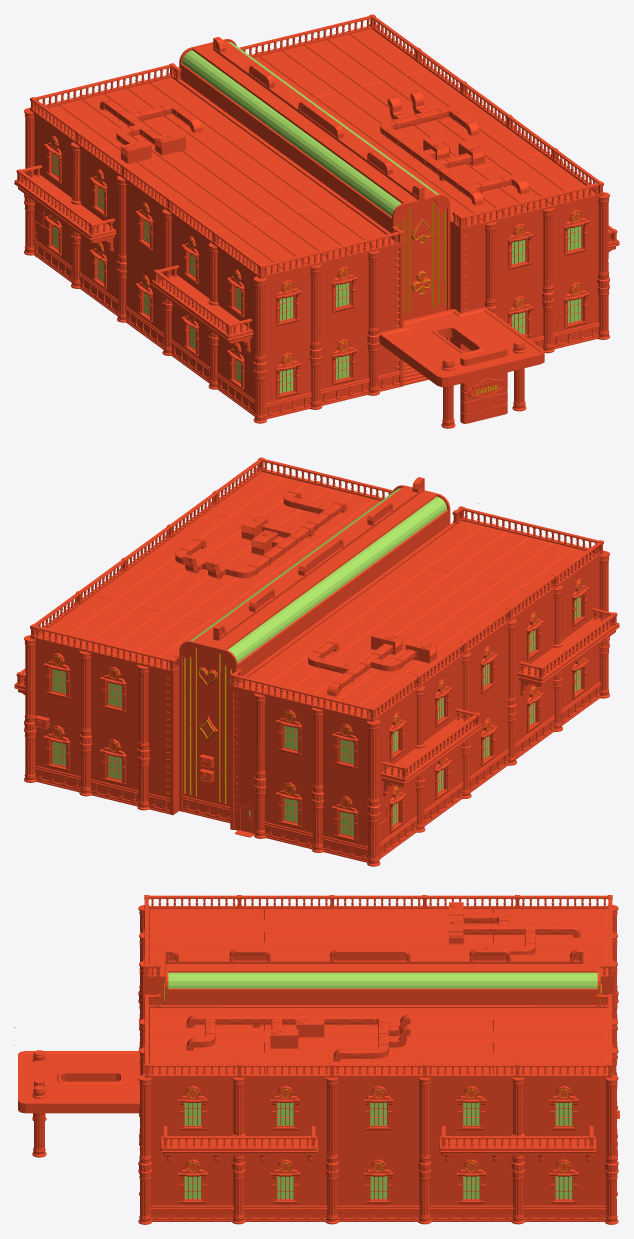
The model's file is SM_Casino_City.fbx.
3 views of the same model, one above another, from view 1: azimuth 30°, elevation 25°; view 2: azimuth 150°, elevation 25°; view 3: azimuth 270°, elevation 25° (orthographic).
Parts seen in each view (by area): view 1: SM_Casino_City_Base; view 2: SM_Casino_City_Base; view 3: SM_Casino_City_Base.
Boxes of the visible parts, <box> form: SM_Casino_City_Base: <box>14,14,619,428</box>; SM_Casino_City_Base: <box>14,457,619,866</box>; SM_Casino_City_Base: <box>14,895,619,1224</box>.
Bounding box in the file's own units: 34.5 × 15.42 × 45.44.
